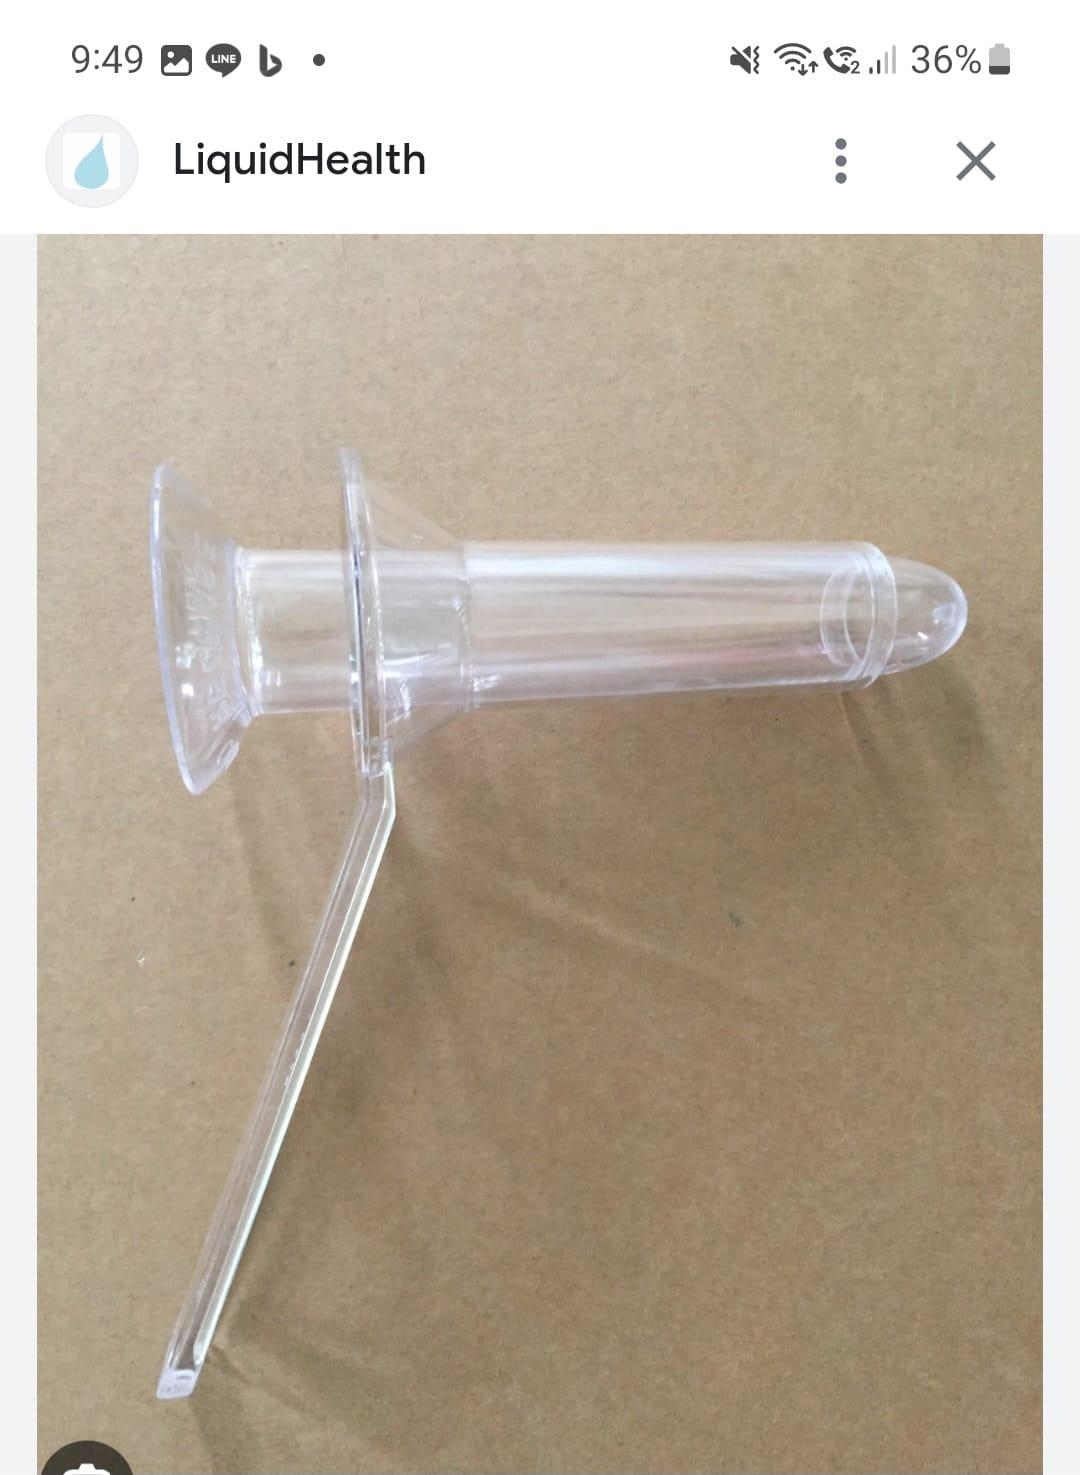Protoscope: (104, 440, 996, 1426)
